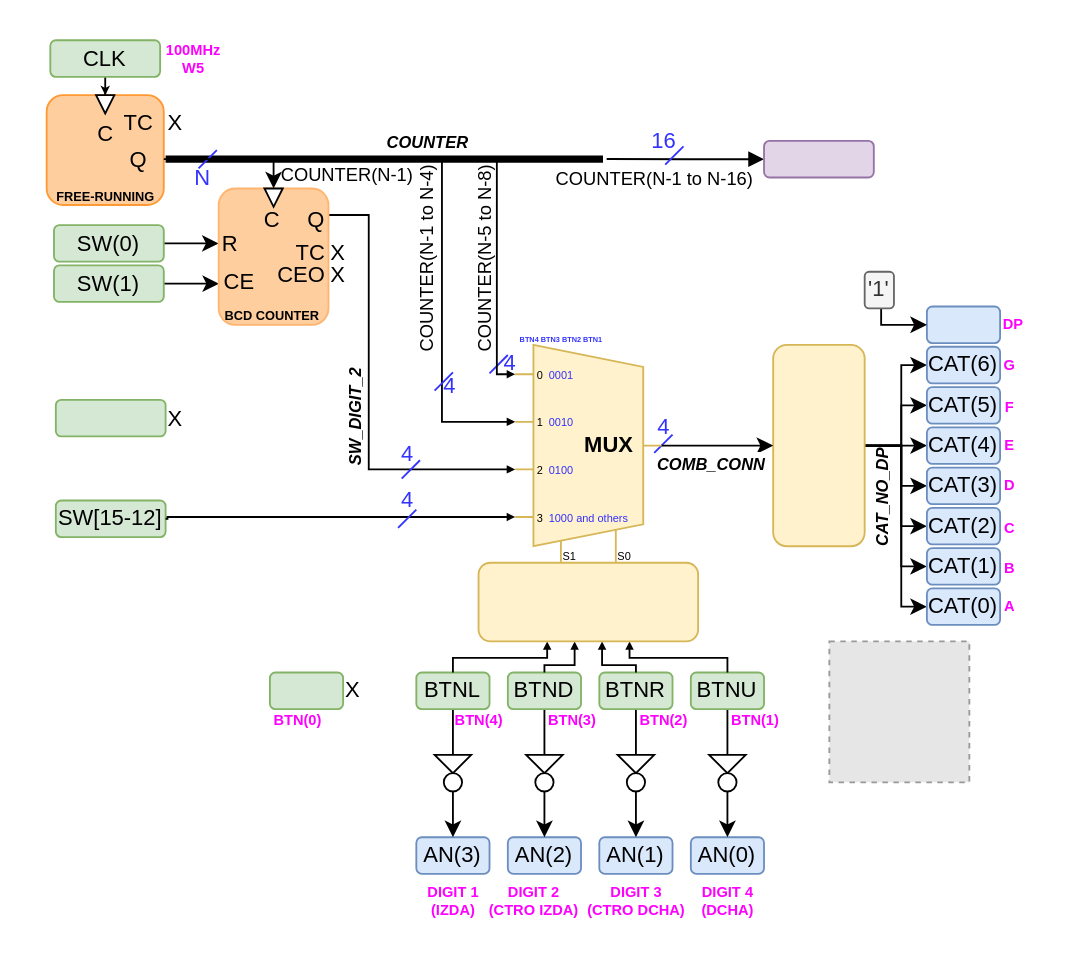
The diagram is 1071 pixels wide and 961 high, and some of its shapes have lost their labels. Grey dashed boxes stand in for pictures. The centre of each missing label's shape, as x and y in pixels:
"4 TO 2 (IN 3 @ btn_pressed > 1)" belongs at (x=587, y=601).
"BTNC" belongs at (x=305, y=690).
"CAT(7)" belongs at (x=962, y=324).
"HEX TO 7SEG" belongs at (x=818, y=444).
"LED[15-0]" belongs at (x=818, y=158).
"SW[11-2]" belongs at (x=110, y=417).
